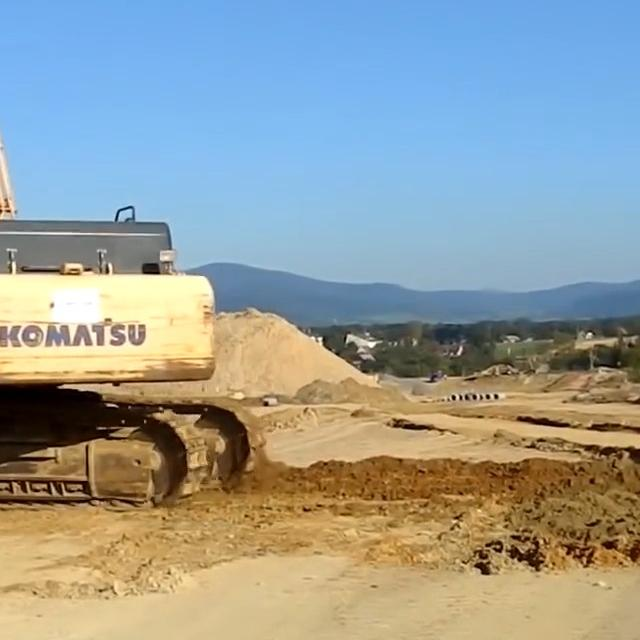Excavator: (0, 36, 265, 512)
